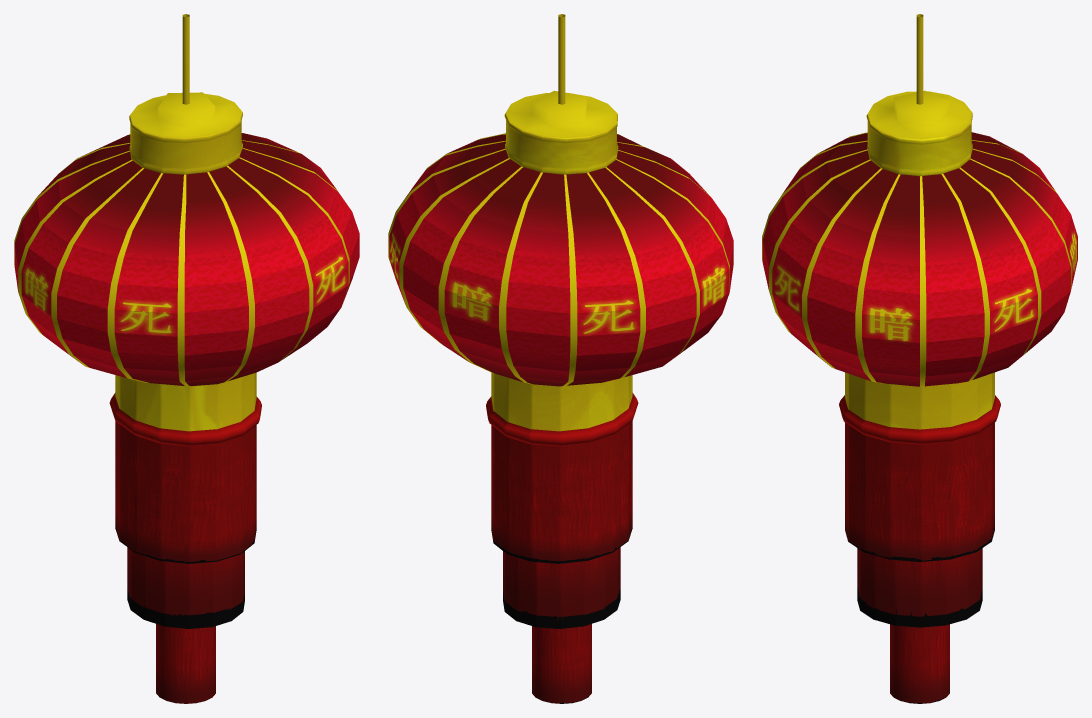
Rendered from ChineseLantern1.fbx.
3 views of the same model, side by side, from view 1: azimuth 30°, elevation 25°; view 2: azimuth 150°, elevation 25°; view 3: azimuth 270°, elevation 25° (orthographic).
Parts seen in each view (by area): view 1: Balloon, Textile_Outer, Bottom, Top, Textile_Inner, Cloth, Hook; view 2: Balloon, Textile_Outer, Bottom, Top, Textile_Inner, Cloth, Hook; view 3: Balloon, Textile_Outer, Bottom, Textile_Inner, Top, Cloth, Hook.
Part boxes in pixels (x1,y1,x2,y2): Balloon: (14, 133, 359, 386); Textile_Outer: (115, 421, 256, 563); Bottom: (109, 372, 261, 446); Top: (129, 92, 242, 174); Textile_Inner: (127, 547, 244, 628); Cloth: (156, 624, 215, 703); Hook: (182, 14, 189, 104); Balloon: (388, 133, 733, 386); Textile_Outer: (491, 421, 632, 563); Bottom: (486, 372, 638, 446); Top: (504, 90, 618, 174); Textile_Inner: (503, 547, 620, 628); Cloth: (532, 624, 591, 703); Hook: (558, 14, 565, 104); Balloon: (762, 132, 1077, 386); Textile_Outer: (845, 422, 994, 561); Bottom: (839, 372, 1000, 444); Textile_Inner: (857, 548, 982, 627); Top: (866, 90, 972, 176); Cloth: (890, 624, 949, 703); Hook: (916, 14, 923, 104).
Size of the model in its own units: 0.0221 by 0.0467 by 0.0198.
Materials: 2 (2 with a texture image).
